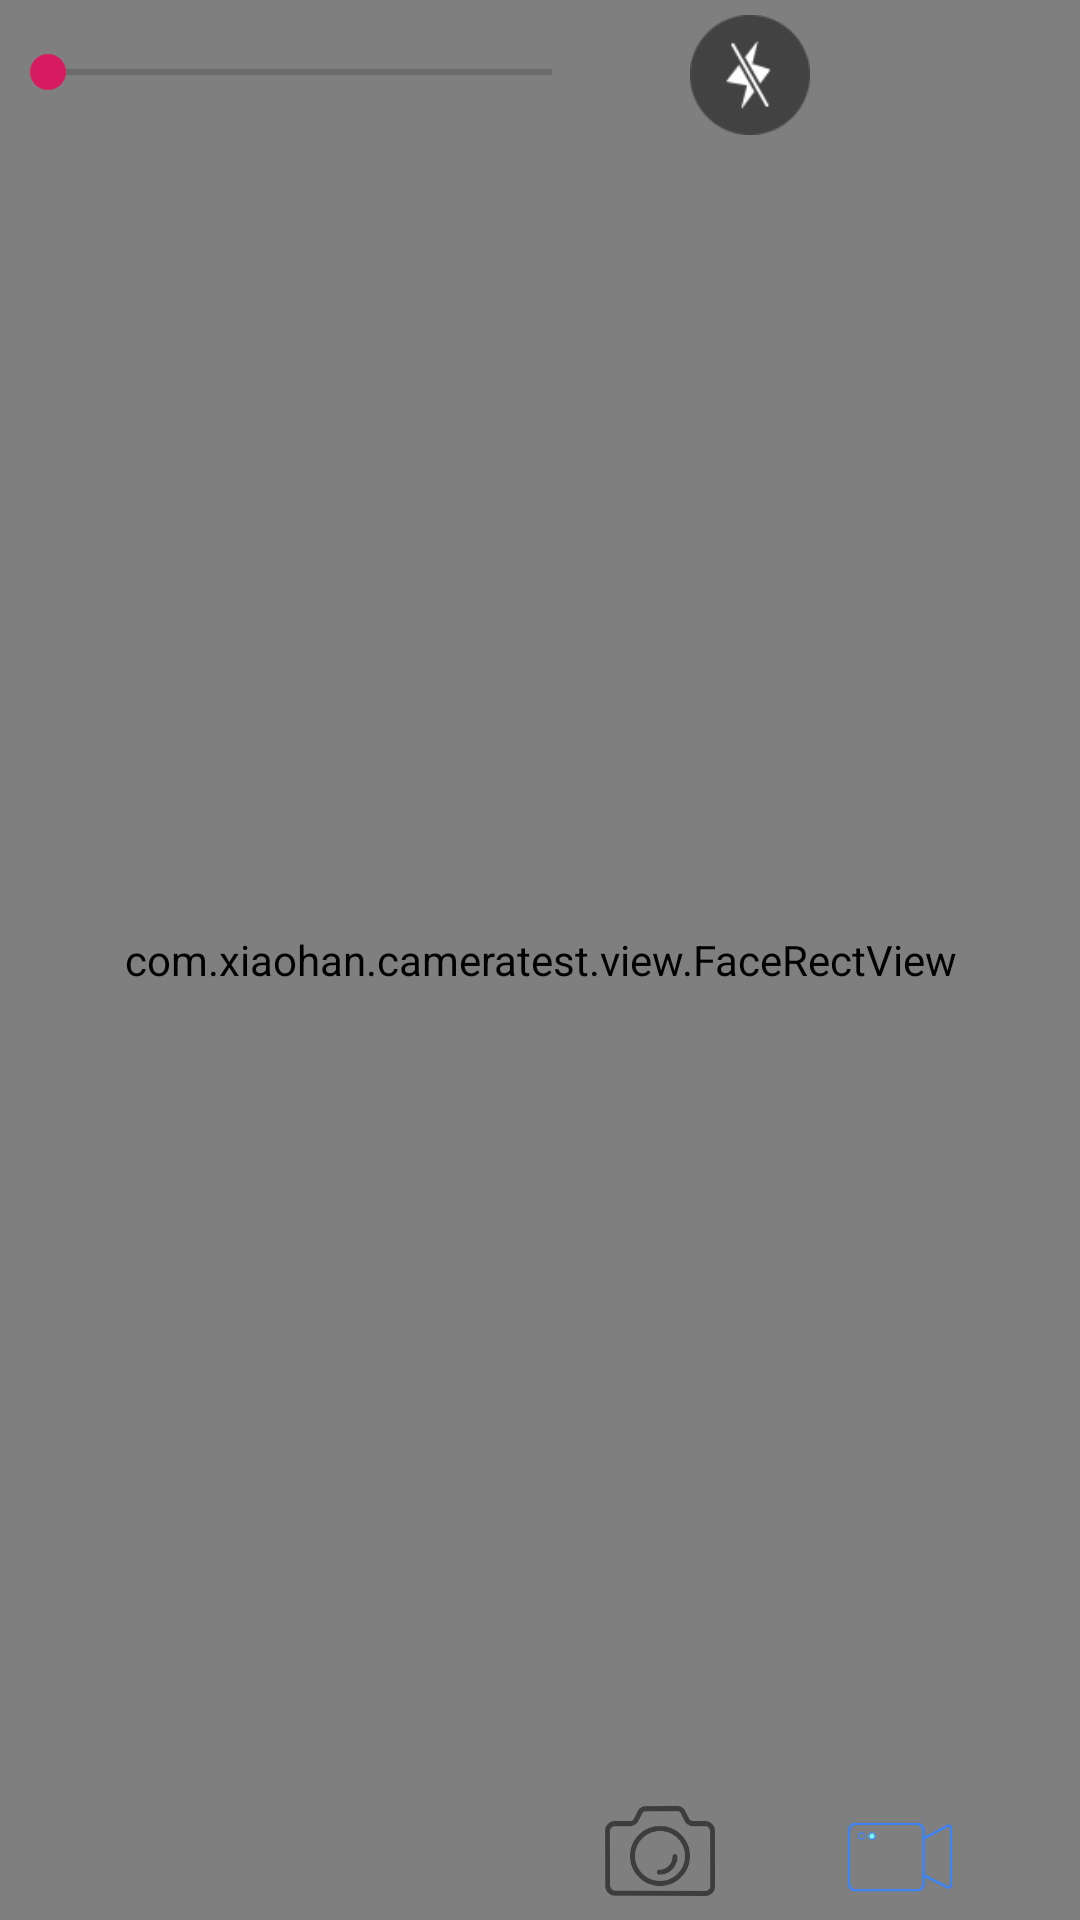

Icons on this 1080x1920 Android screen, each with the point to tap as (x=x, y=y):
camera flash off: (x=750, y=75)
video: (x=900, y=1857)
